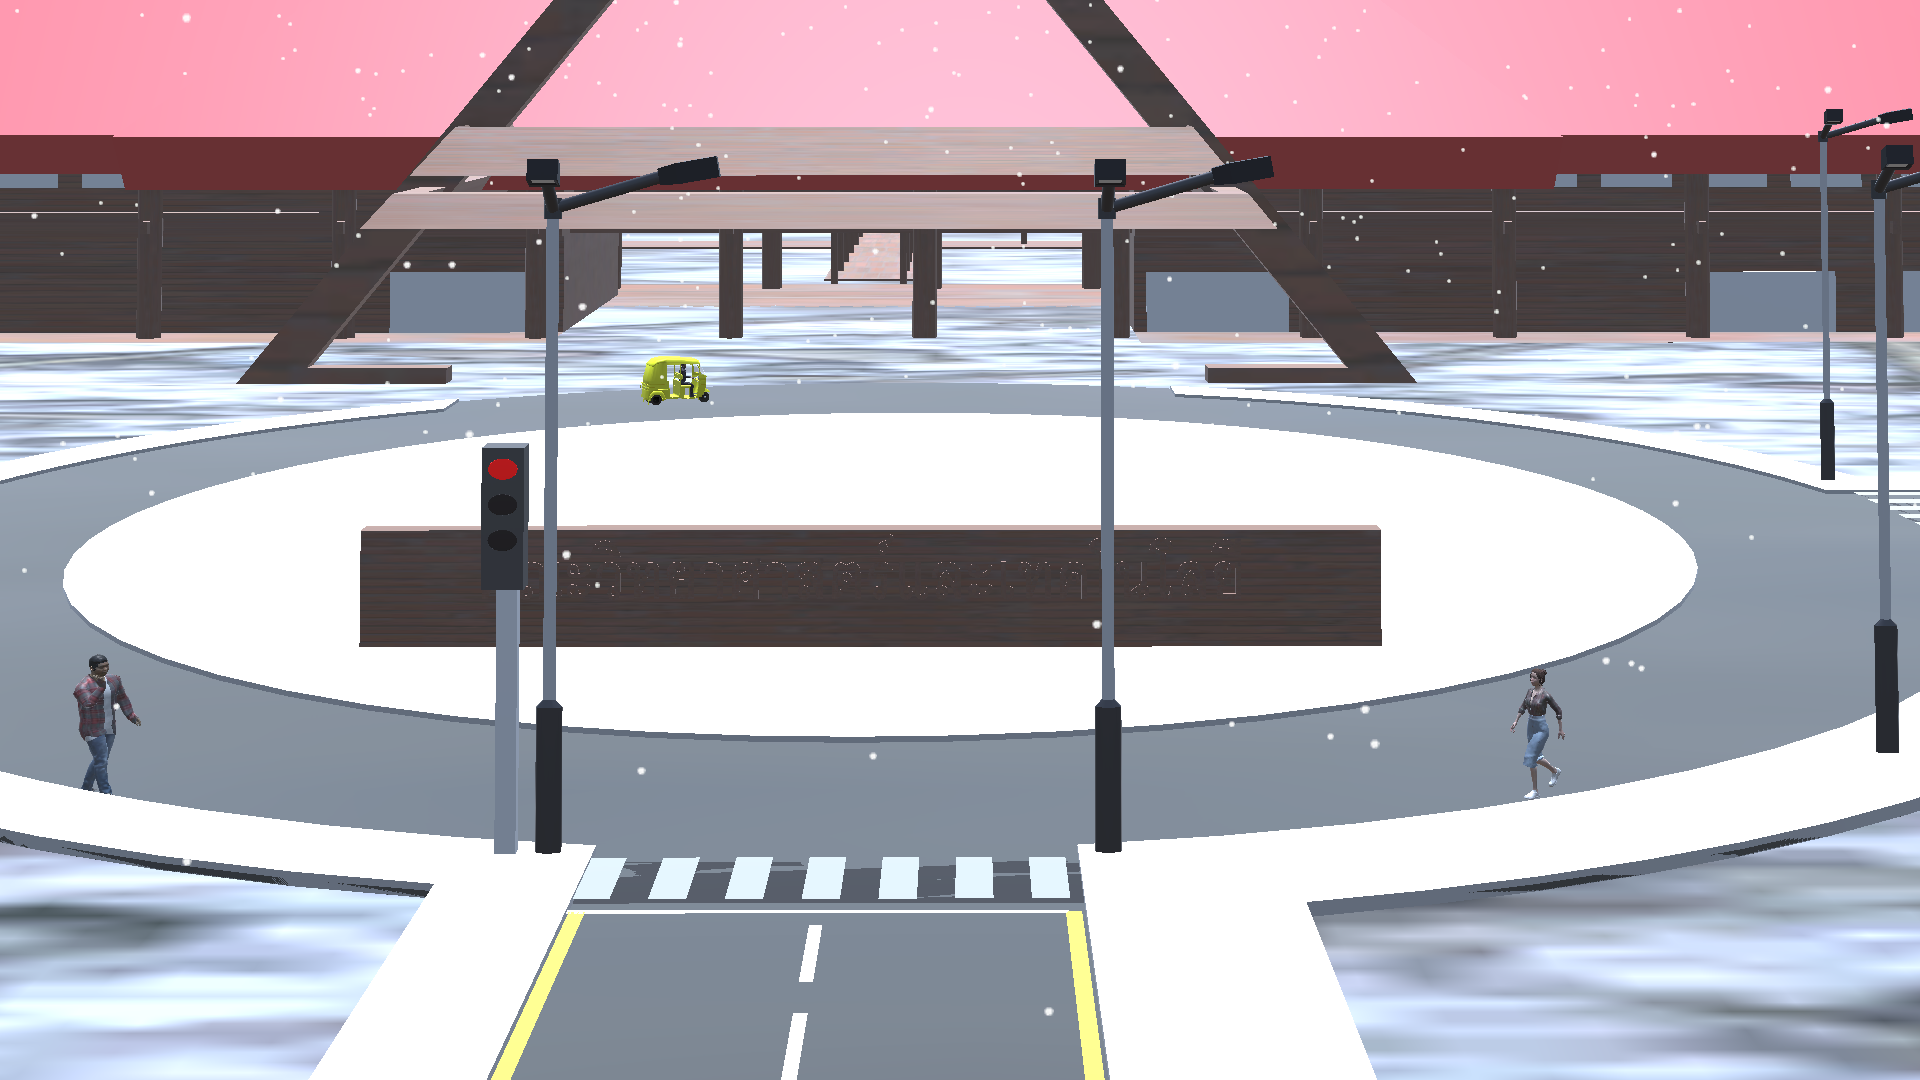pedestrian: (64, 650, 145, 791), (1510, 662, 1572, 802)
